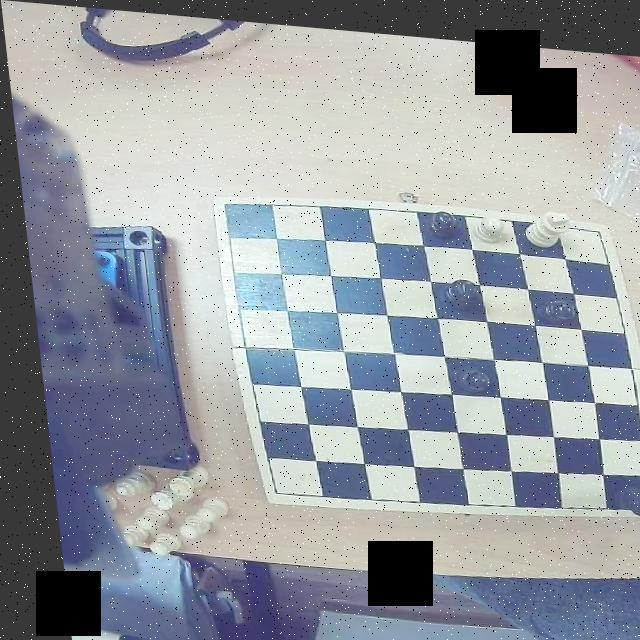chess-table-corners: (253, 466, 284, 498), (212, 192, 242, 225), (616, 478, 640, 508), (578, 213, 606, 238)
